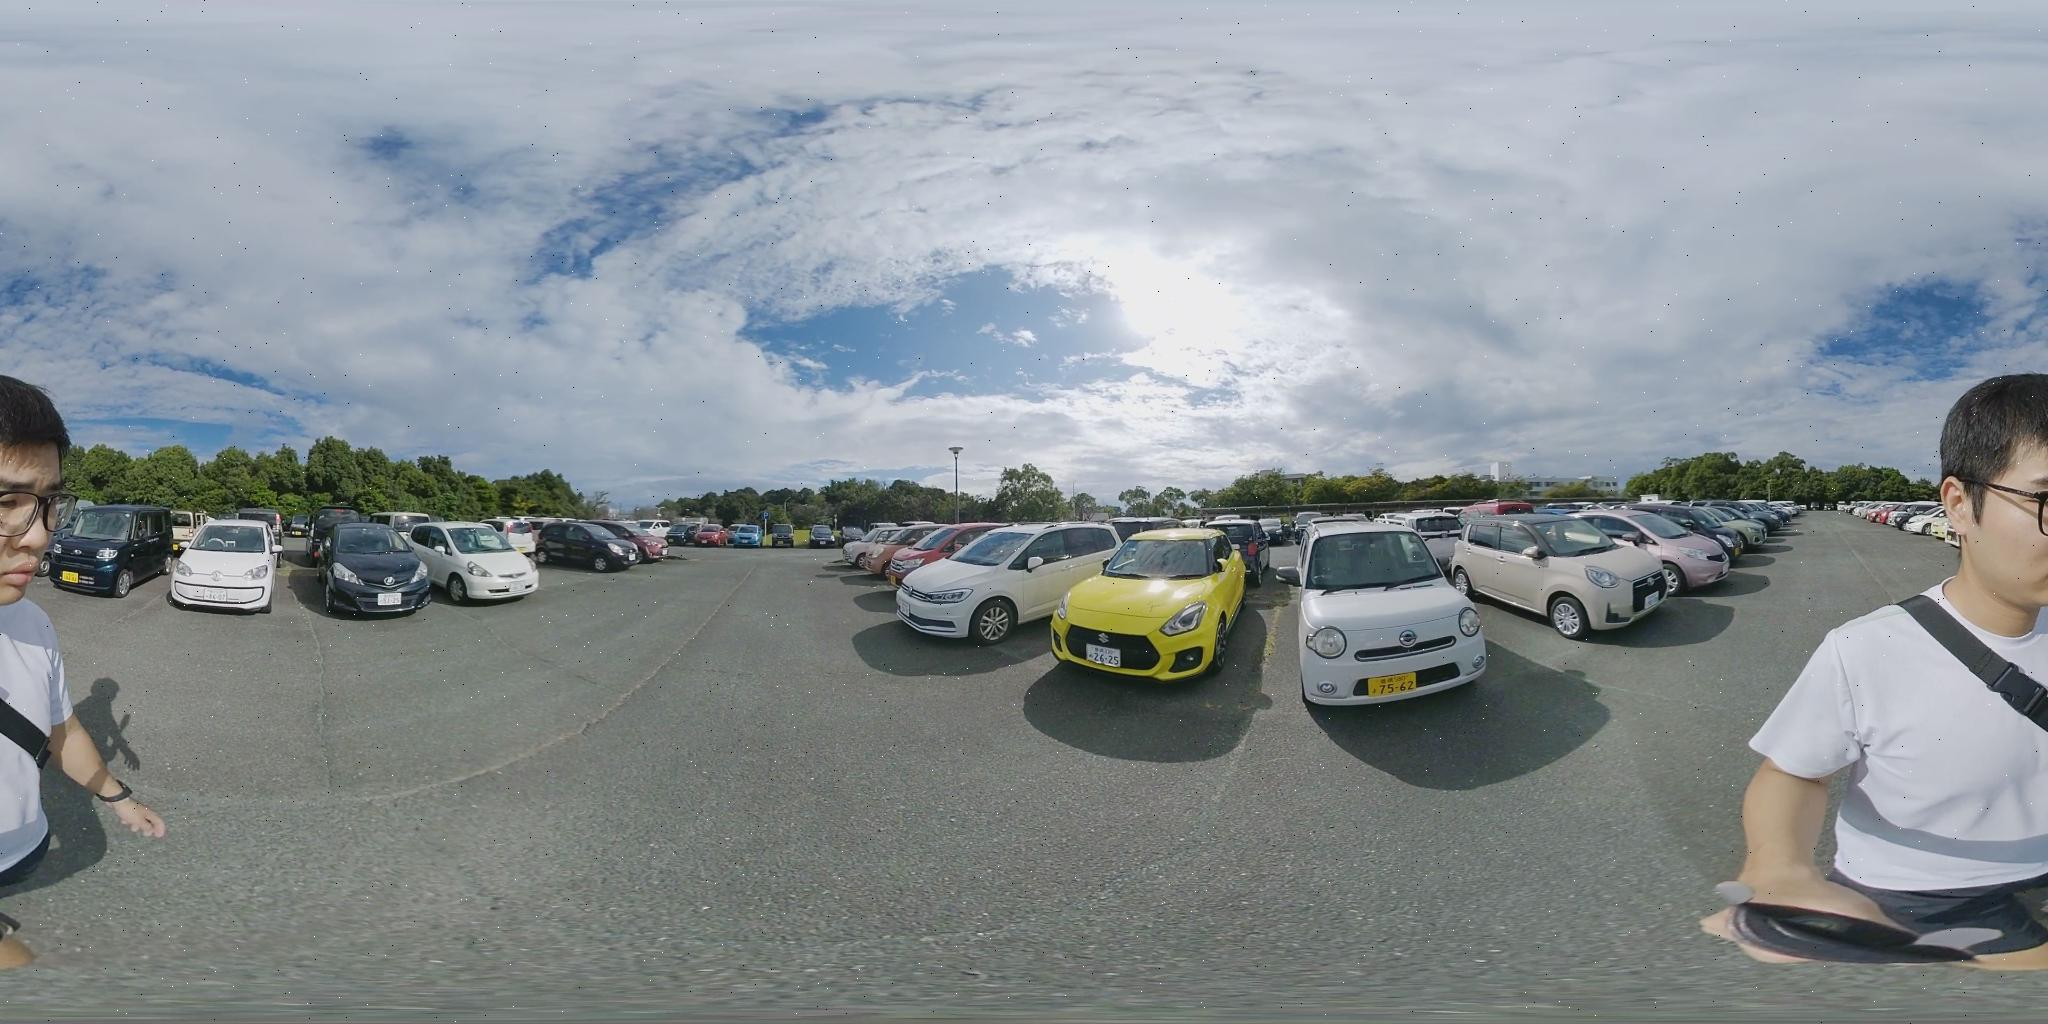car: (1290, 515, 1498, 711), (1042, 524, 1270, 686), (1448, 515, 1684, 640), (889, 524, 1126, 644), (1566, 508, 1736, 588), (409, 524, 546, 606), (55, 507, 176, 590), (175, 517, 280, 613), (324, 525, 430, 619), (857, 525, 1007, 581), (539, 521, 665, 571), (1673, 502, 1789, 547), (1864, 502, 1942, 530), (691, 525, 734, 546), (729, 528, 765, 549)
